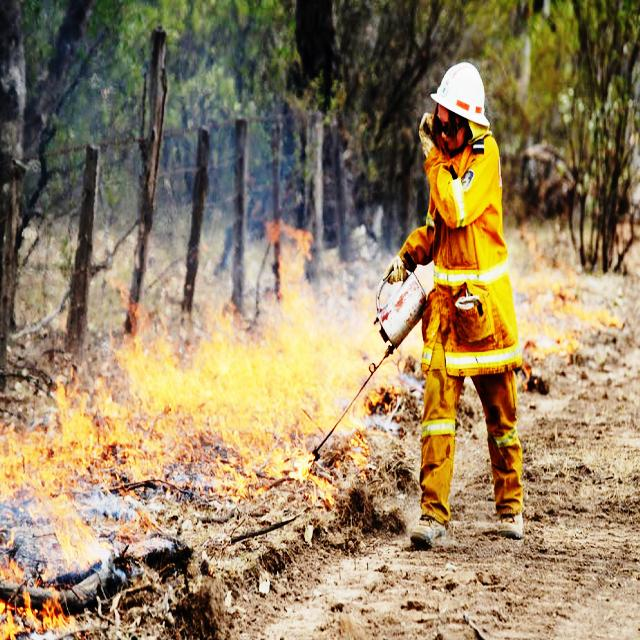api: (128, 307, 364, 488), (4, 406, 110, 528), (1, 593, 85, 639), (278, 228, 317, 319), (510, 264, 587, 307), (519, 312, 569, 362), (61, 527, 101, 574)
